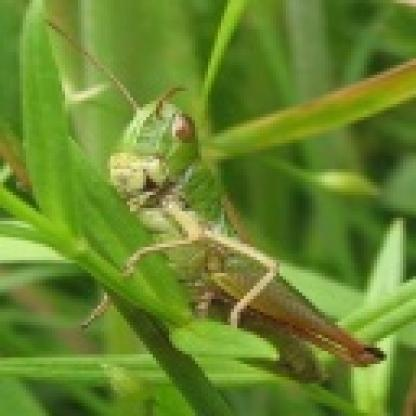grasshopper: (99, 87, 383, 378)
